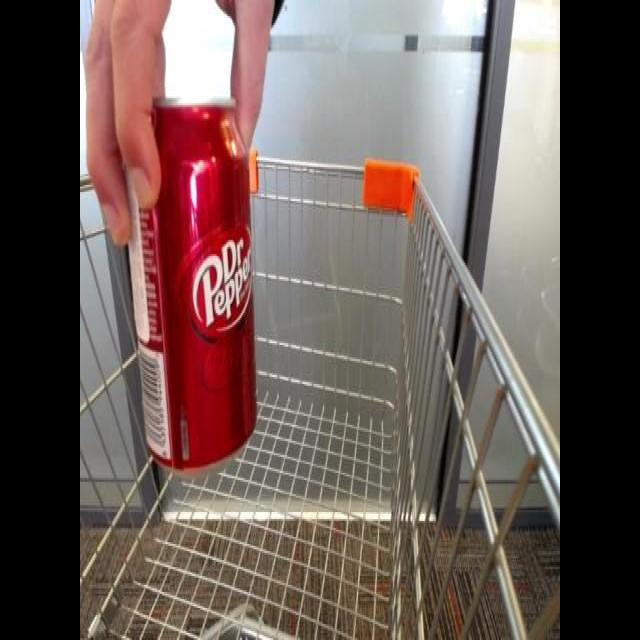Dr Pepper: (120, 85, 257, 471)
